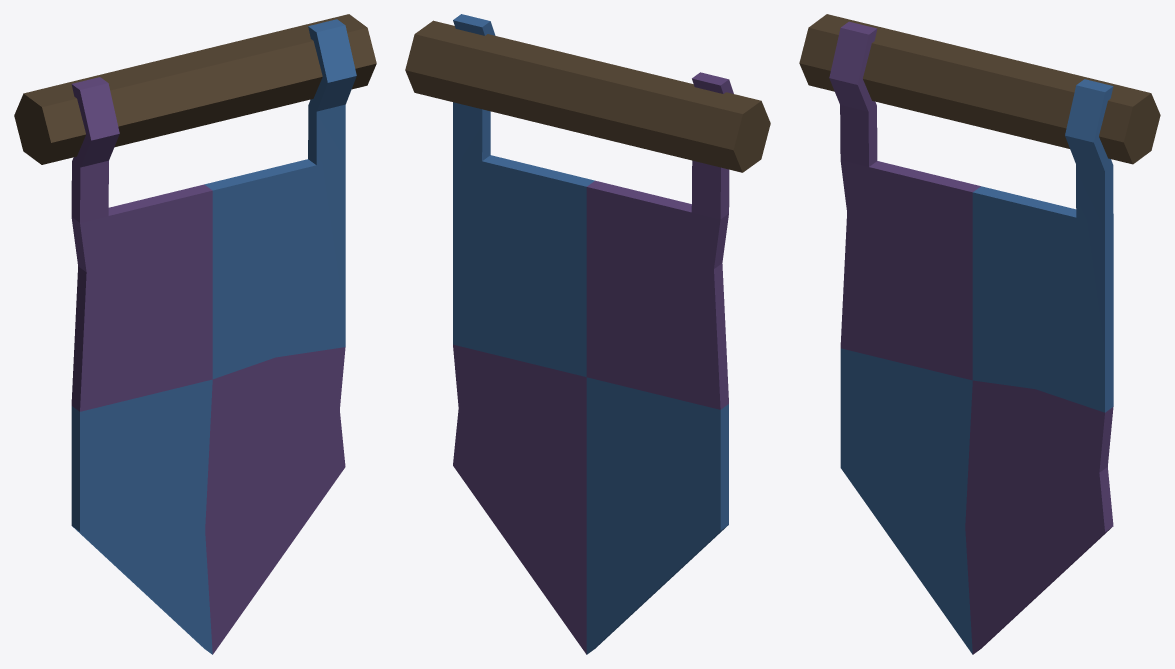
File: SM_Prop_Banner_02.gltf
3 renders of one model, left to right at view 1: azimuth 30°, elevation 25°; view 2: azimuth 150°, elevation 25°; view 3: azimuth 330°, elevation 25°, orthographic.
Visible parts, largest first — view 1: SM_Prop_Banner_02; view 2: SM_Prop_Banner_02; view 3: SM_Prop_Banner_02.
Part boxes in pixels (x1=…): SM_Prop_Banner_02: x1=14, y1=14, x2=376, y2=654; SM_Prop_Banner_02: x1=405, y1=14, x2=770, y2=654; SM_Prop_Banner_02: x1=799, y1=14, x2=1160, y2=654.
Size of the model in its own units: 1.2 by 2.1 by 0.2685.
Materials: 1 (1 with a texture image).
